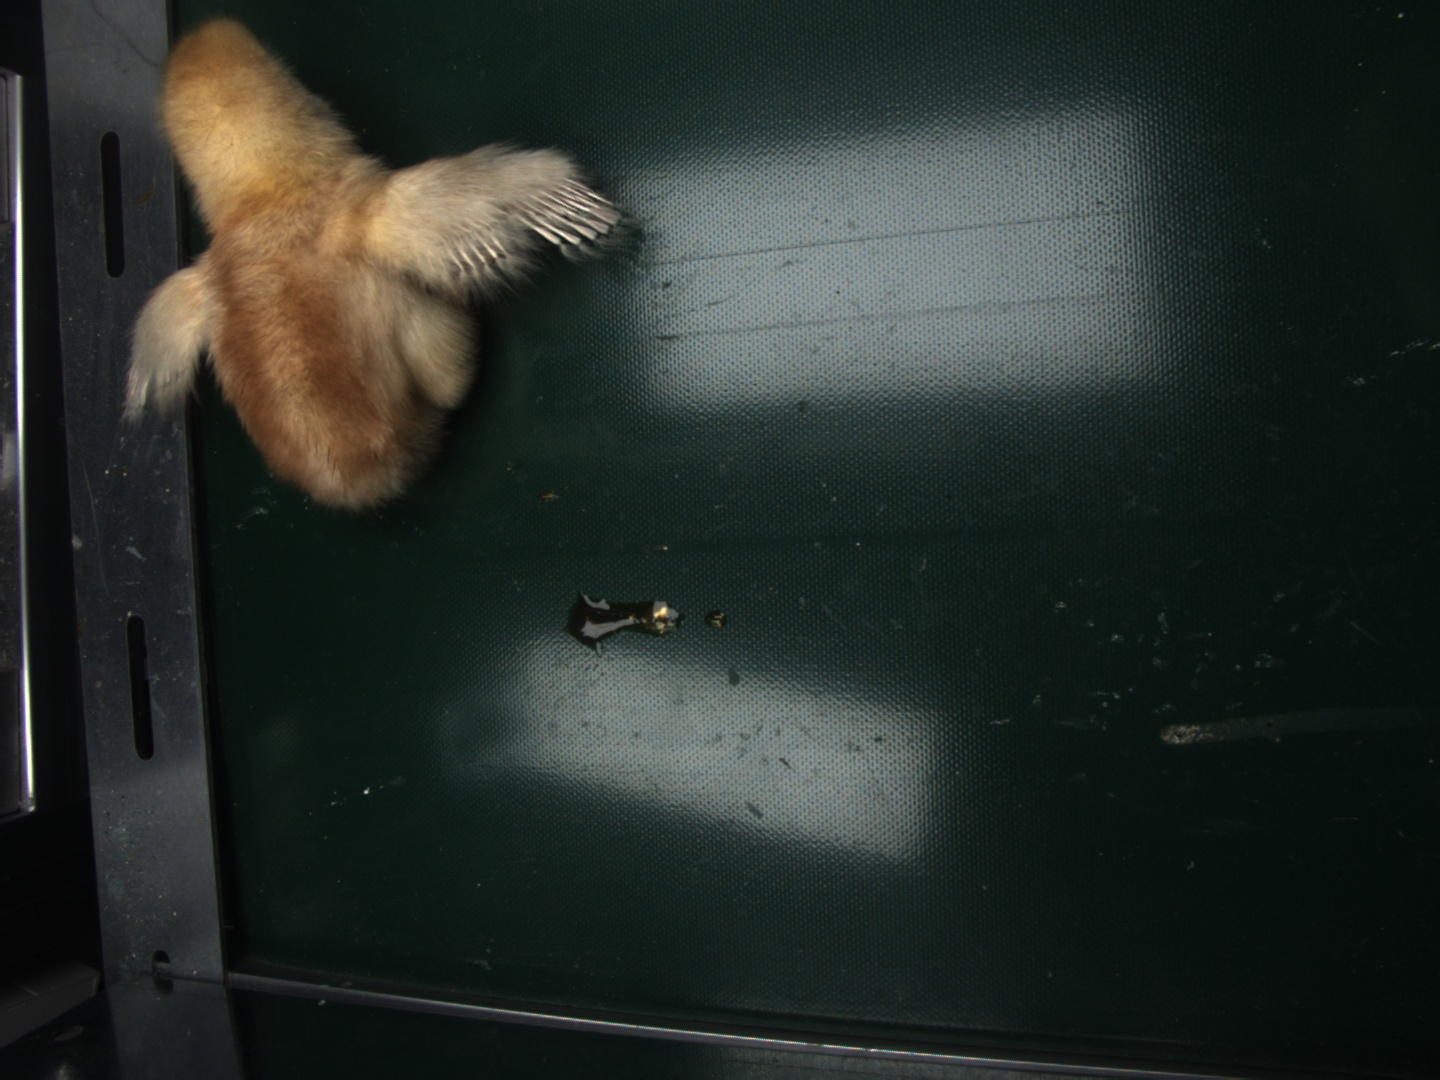female: (527, 176, 630, 255)
